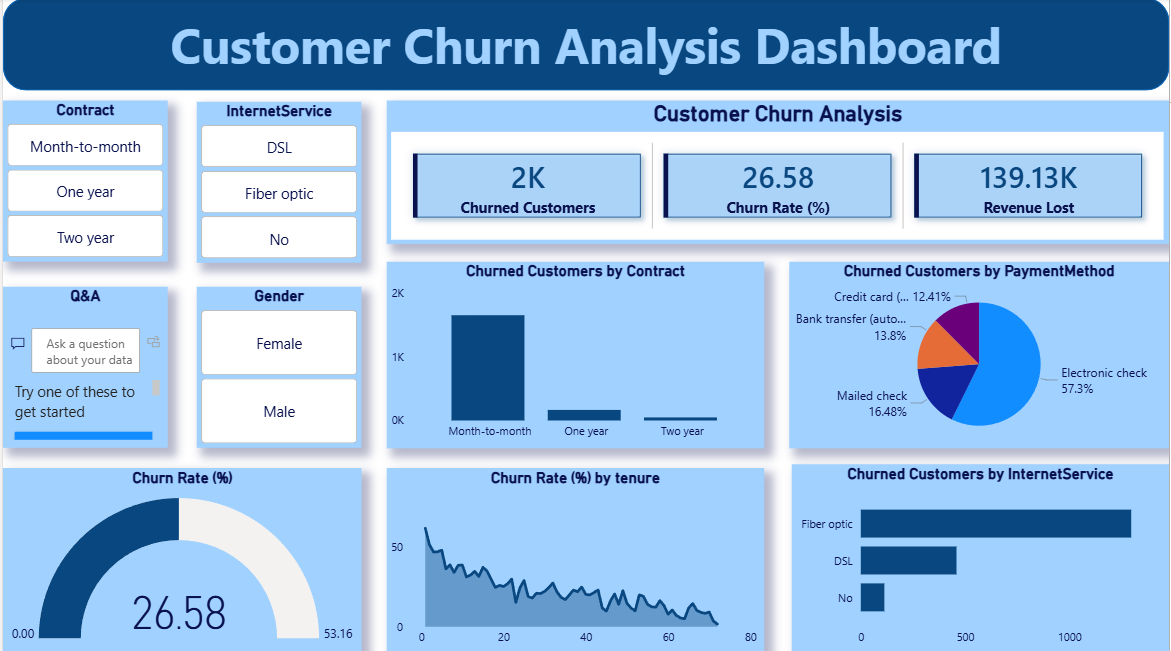

Layout of this report page (visuals, bound fields, positions):
{"tool":"powerbi","page":{"name":"Page 1","canvas":[1280,720],"ordinal":0},"visuals":[{"type":"cardVisual","title":"Customer Churn Analysis","fields":{"Data":["churn_analysis telco_customer_churn.Churned Customers","churn_analysis telco_customer_churn.Churn Rate (%)","churn_analysis telco_customer_churn.Revenue Lost"]},"box":[421.3,112.5,859,157.8],"z":0},{"type":"columnChart","fields":{"Category":["churn_analysis telco_customer_churn.Contract"],"Y":["churn_analysis telco_customer_churn.Churned Customers"]},"box":[421.3,289.5,414.4,204.5],"z":1000},{"type":"pieChart","fields":{"Category":["churn_analysis telco_customer_churn.PaymentMethod"],"Y":["churn_analysis telco_customer_churn.Churned Customers"]},"box":[863.1,289.5,417.2,204.5],"z":2000},{"type":"barChart","fields":{"Y":["churn_analysis telco_customer_churn.Churned Customers"],"Category":["churn_analysis telco_customer_churn.InternetService"]},"box":[865.9,511.8,414.4,208.6],"z":3000},{"type":"lineChart","fields":{"Category":["churn_analysis telco_customer_churn.tenure"],"Y":["churn_analysis telco_customer_churn.Churn Rate (%)"]},"box":[421.3,516,414.4,204.5],"z":4000},{"type":"gauge","fields":{"Y":["churn_analysis telco_customer_churn.Churn Rate (%)"]},"box":[0,516,393.8,204.5],"z":5000},{"type":"advancedSlicerVisual","fields":{"Values":["churn_analysis telco_customer_churn.Contract"]},"box":[0,112.5,181.1,177],"z":6000},{"type":"advancedSlicerVisual","fields":{"Values":["churn_analysis telco_customer_churn.InternetService"]},"box":[212.7,113.9,181.1,177],"z":7000},{"type":"advancedSlicerVisual","title":"Gender","fields":{"Values":["churn_analysis telco_customer_churn.gender"]},"box":[212.7,317,181.1,177],"z":8000},{"type":"shape","box":[0,0,1280.3,101.5],"z":9000},{"type":"qnaVisual","title":"Q&A","box":[0,317,181,177],"z":9001}]}

Visuals, with their boxes in screenshot pixels (x1, y1, x2, y2), scaled from the page's 1280x720 canvas onto the 1171x651 screenshot:
"Customer Churn Analysis" cardVisual: locate(385, 102, 1170, 244)
columnChart - churn_analysis telco_customer_churn.Contract x churn_analysis telco_customer_churn.Churned Customers: locate(385, 262, 765, 447)
pieChart - churn_analysis telco_customer_churn.PaymentMethod x churn_analysis telco_customer_churn.Churned Customers: locate(790, 262, 1170, 447)
barChart - churn_analysis telco_customer_churn.Churned Customers x churn_analysis telco_customer_churn.InternetService: locate(792, 463, 1170, 650)
lineChart - churn_analysis telco_customer_churn.tenure x churn_analysis telco_customer_churn.Churn Rate (%): locate(385, 467, 765, 650)
gauge - churn_analysis telco_customer_churn.Churn Rate (%): locate(0, 467, 360, 650)
advancedSlicerVisual - churn_analysis telco_customer_churn.Contract: locate(0, 102, 166, 262)
advancedSlicerVisual - churn_analysis telco_customer_churn.InternetService: locate(195, 103, 360, 263)
"Gender" advancedSlicerVisual: locate(195, 287, 360, 447)
shape: locate(0, 0, 1170, 92)
"Q&A" qnaVisual: locate(0, 287, 166, 447)
